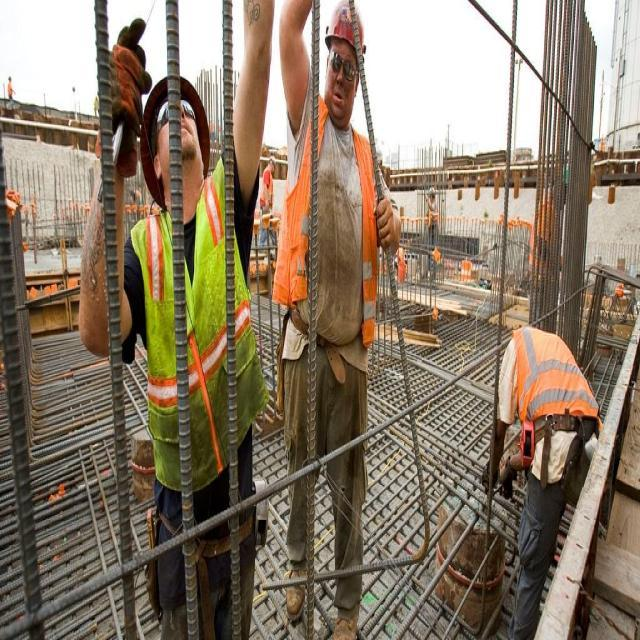reflective_jacket: (128, 189, 260, 495), (305, 110, 378, 354), (509, 322, 600, 475)
safety_helmet: (322, 0, 368, 57)
